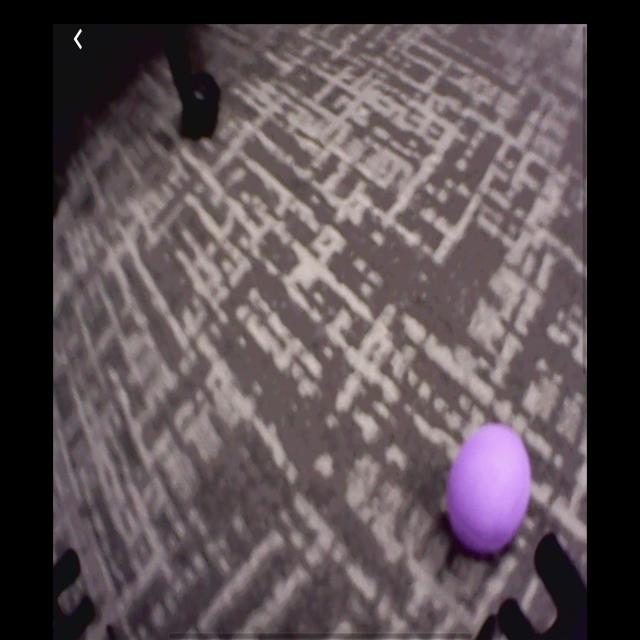ball: (447, 423, 531, 554)
